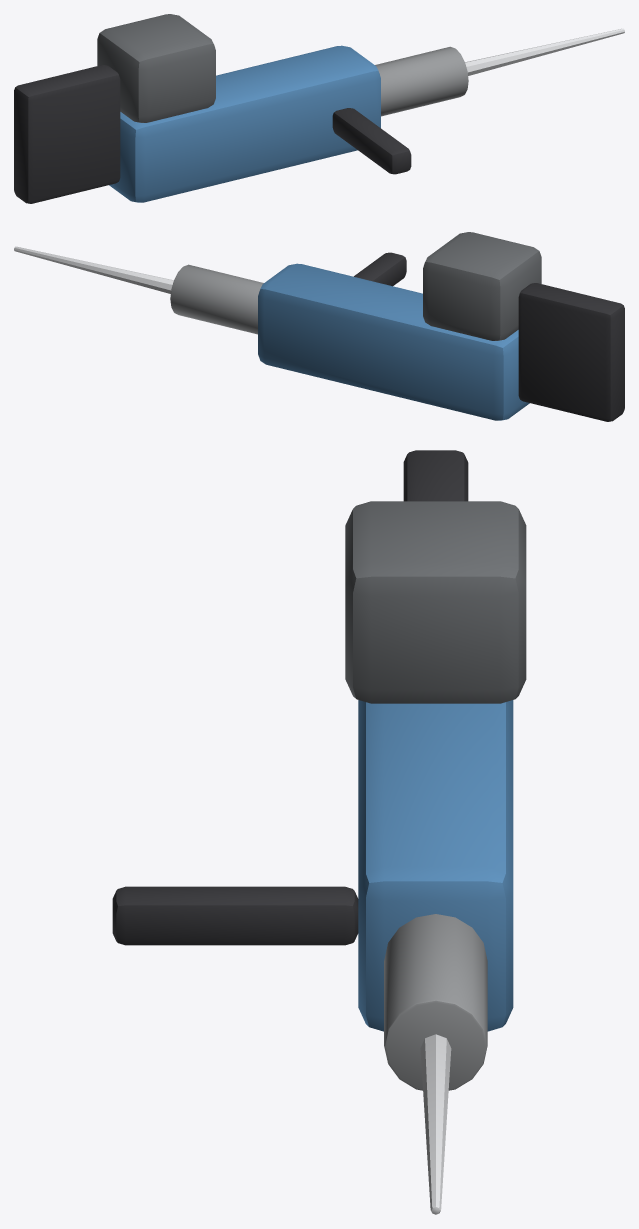
The model's file is EQP-PEQ-003_lod1.glb.
3 renders of one model, top to bottom at view 1: azimuth 30°, elevation 25°; view 2: azimuth 150°, elevation 25°; view 3: azimuth 270°, elevation 25°, orthographic. The views are drawn at different scales.
Visible parts, largest first — view 1: EQP-PEQ-003_corpo, EQP-PEQ-003_punho, EQP-PEQ-003_motor, EQP-PEQ-003_cilindro, EQP-PEQ-003_alca_lat, EQP-PEQ-003_ponteira; view 2: EQP-PEQ-003_corpo, EQP-PEQ-003_punho, EQP-PEQ-003_motor, EQP-PEQ-003_cilindro, EQP-PEQ-003_ponteira, EQP-PEQ-003_alca_lat; view 3: EQP-PEQ-003_corpo, EQP-PEQ-003_motor, EQP-PEQ-003_cilindro, EQP-PEQ-003_alca_lat, EQP-PEQ-003_ponteira, EQP-PEQ-003_punho.
Part boxes in pixels (bbox=[...]): EQP-PEQ-003_corpo: bbox=[109, 45, 380, 202]; EQP-PEQ-003_punho: bbox=[14, 65, 120, 203]; EQP-PEQ-003_motor: bbox=[97, 14, 215, 122]; EQP-PEQ-003_cilindro: bbox=[375, 46, 468, 116]; EQP-PEQ-003_alca_lat: bbox=[332, 108, 411, 174]; EQP-PEQ-003_ponteira: bbox=[465, 28, 624, 75]; EQP-PEQ-003_corpo: bbox=[258, 263, 529, 420]; EQP-PEQ-003_punho: bbox=[518, 283, 624, 421]; EQP-PEQ-003_motor: bbox=[423, 232, 541, 340]; EQP-PEQ-003_cilindro: bbox=[170, 264, 263, 334]; EQP-PEQ-003_ponteira: bbox=[14, 246, 173, 293]; EQP-PEQ-003_alca_lat: bbox=[354, 252, 406, 286]; EQP-PEQ-003_corpo: bbox=[358, 700, 513, 1031]; EQP-PEQ-003_motor: bbox=[345, 501, 526, 703]; EQP-PEQ-003_cilindro: bbox=[384, 914, 487, 1090]; EQP-PEQ-003_alca_lat: bbox=[112, 886, 358, 945]; EQP-PEQ-003_ponteira: bbox=[420, 1034, 451, 1214]; EQP-PEQ-003_punho: bbox=[403, 450, 468, 501].
Bounding box in the file's own units: 1.08 × 0.26 × 0.32.
